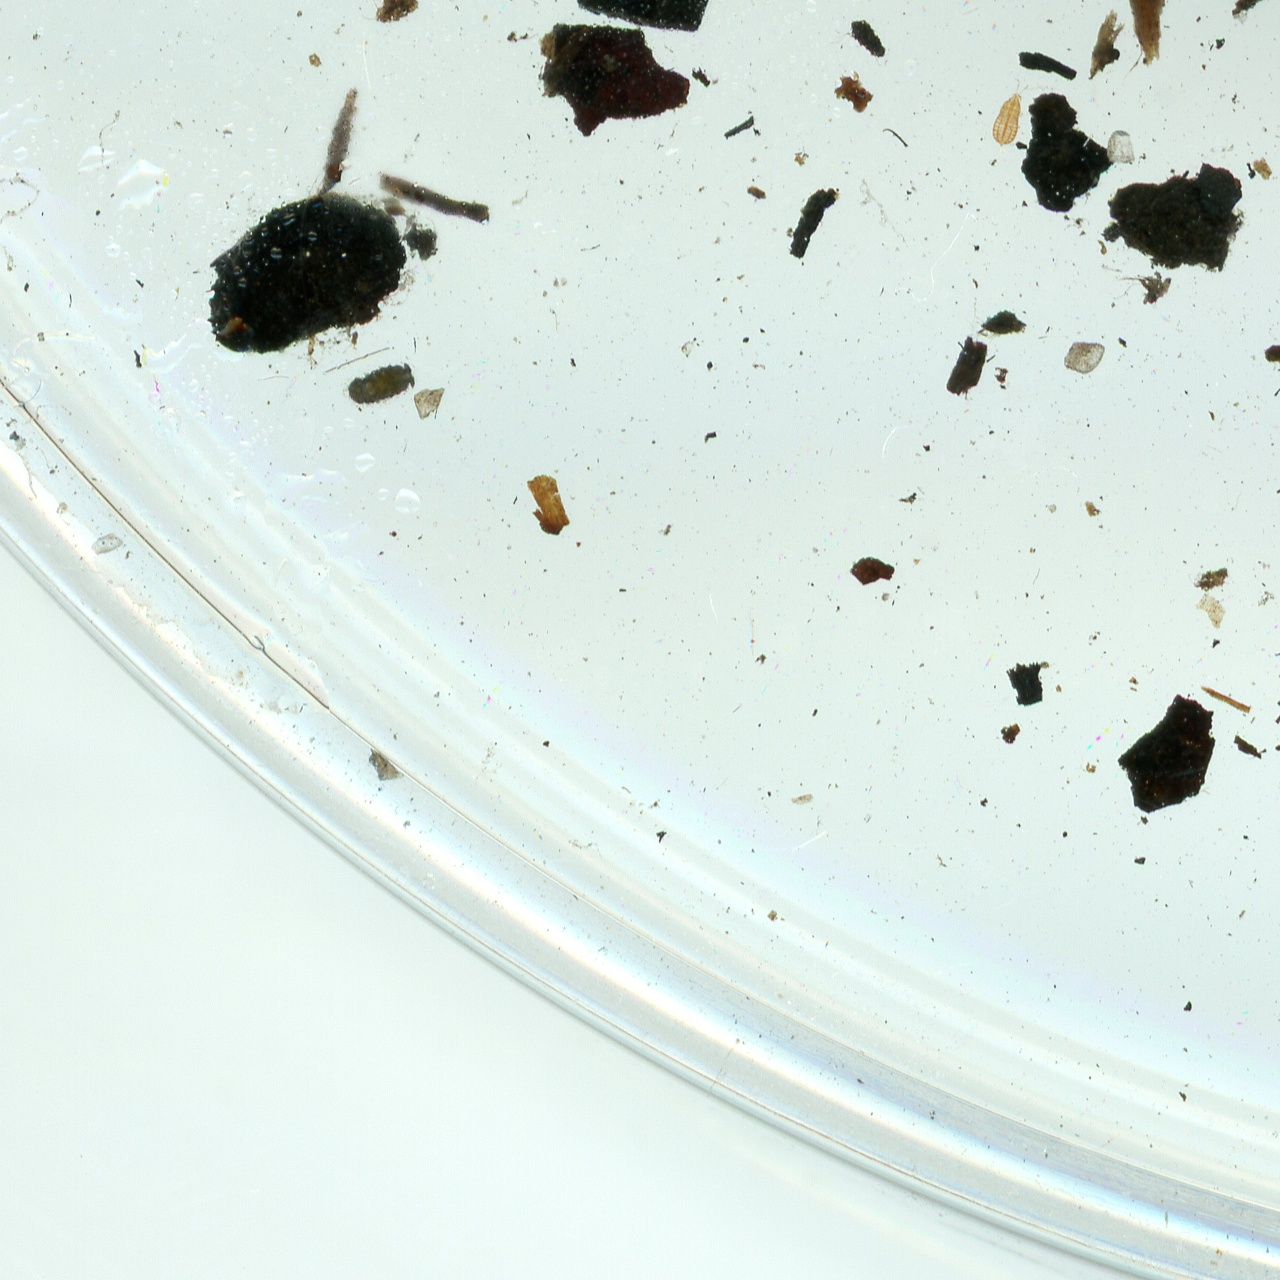arthropod: (339, 353, 423, 418), (987, 75, 1034, 150)
